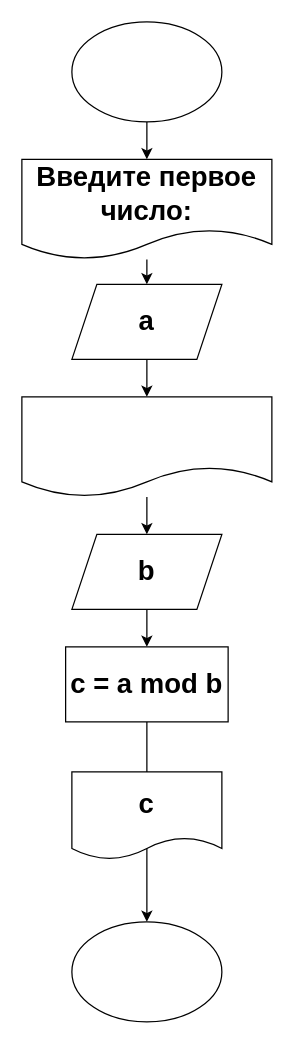
Some shapes in this 294 by 1044 pixel diagram are drawn without their labels. Here are the shapes that lost their labels. From the top down, the centre of each, then its label:
(x=146, y=71): start
(x=146, y=446): Введите второе число:
(x=146, y=971): end
